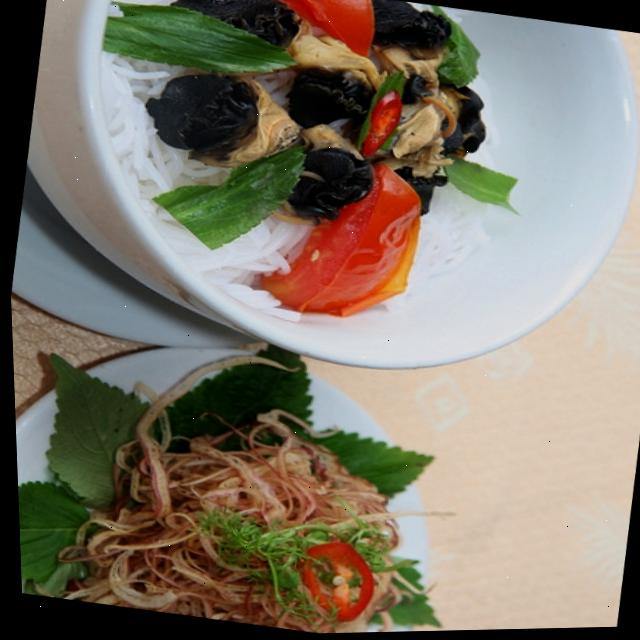面条主食: (25, 0, 640, 415)
